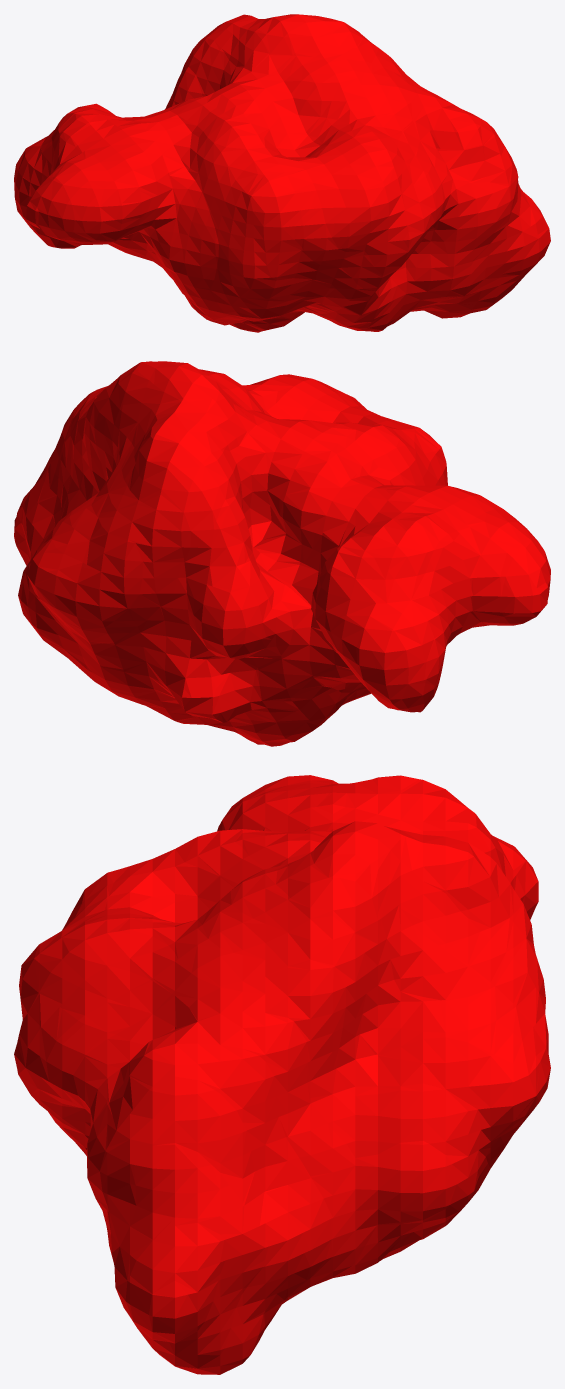
File: lldD_coarse.dae
The picture shows the model from 3 angles, top to bottom: view 1: azimuth 30°, elevation 25°; view 2: azimuth 150°, elevation 25°; view 3: azimuth 270°, elevation 25°; orthographic projection. The views are drawn at different scales.
Parts seen in each view (by area): view 1: lldD; view 2: lldD; view 3: lldD.
Boxes of the visible parts, x1,y1,x2,y2 form: lldD: (14,14,550,332); lldD: (14,361,550,746); lldD: (14,775,550,1374).
Bounding box in the file's own units: 83.53 × 50.04 × 53.73.
